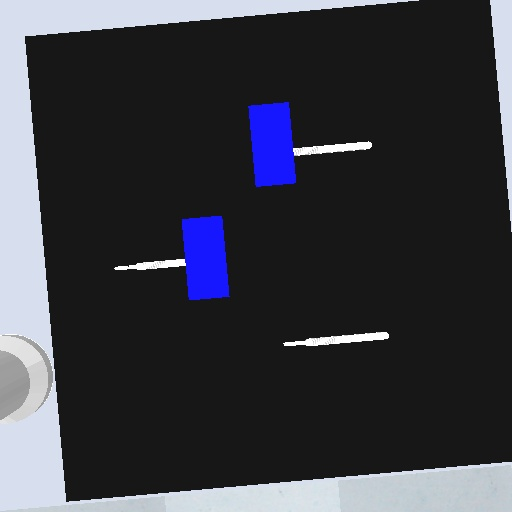bisturi: (278, 327, 391, 349), (292, 140, 374, 158), (111, 256, 188, 275)
